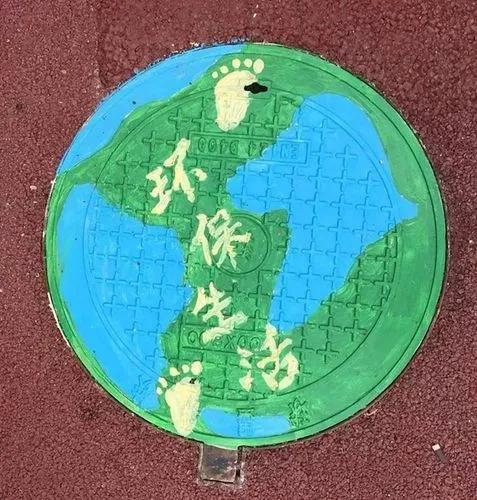wellcover: (17, 40, 477, 487)
